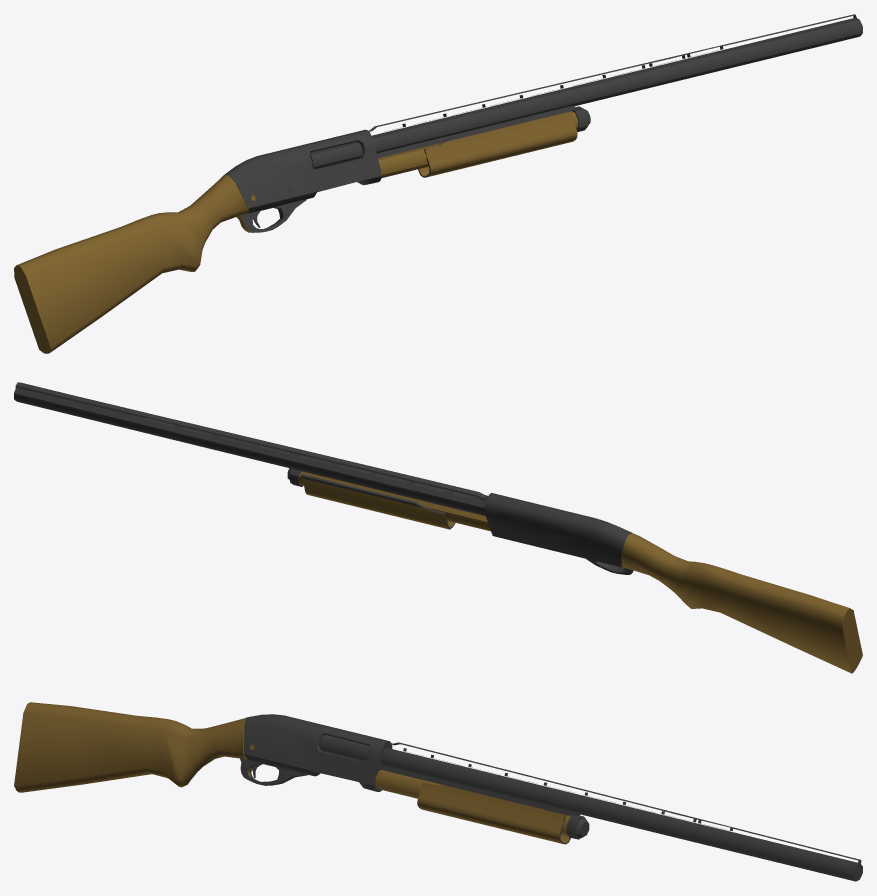
Rendered from Gun Kuno.fbx.
The picture shows the model from 3 angles, top to bottom: view 1: azimuth 30°, elevation 25°; view 2: azimuth 150°, elevation 25°; view 3: azimuth 330°, elevation 25°; orthographic projection. The views are drawn at different scales.
Parts seen in each view (by area): view 1: Plane02; view 2: Plane02; view 3: Plane02.
Boxes of the visible parts, x1=… form: Plane02: x1=14, y1=14, x2=862, y2=353; Plane02: x1=14, y1=382, x2=862, y2=673; Plane02: x1=14, y1=702, x2=862, y2=881.
Size of the model in its own units: 43.83 by 5.86 by 3.56.
